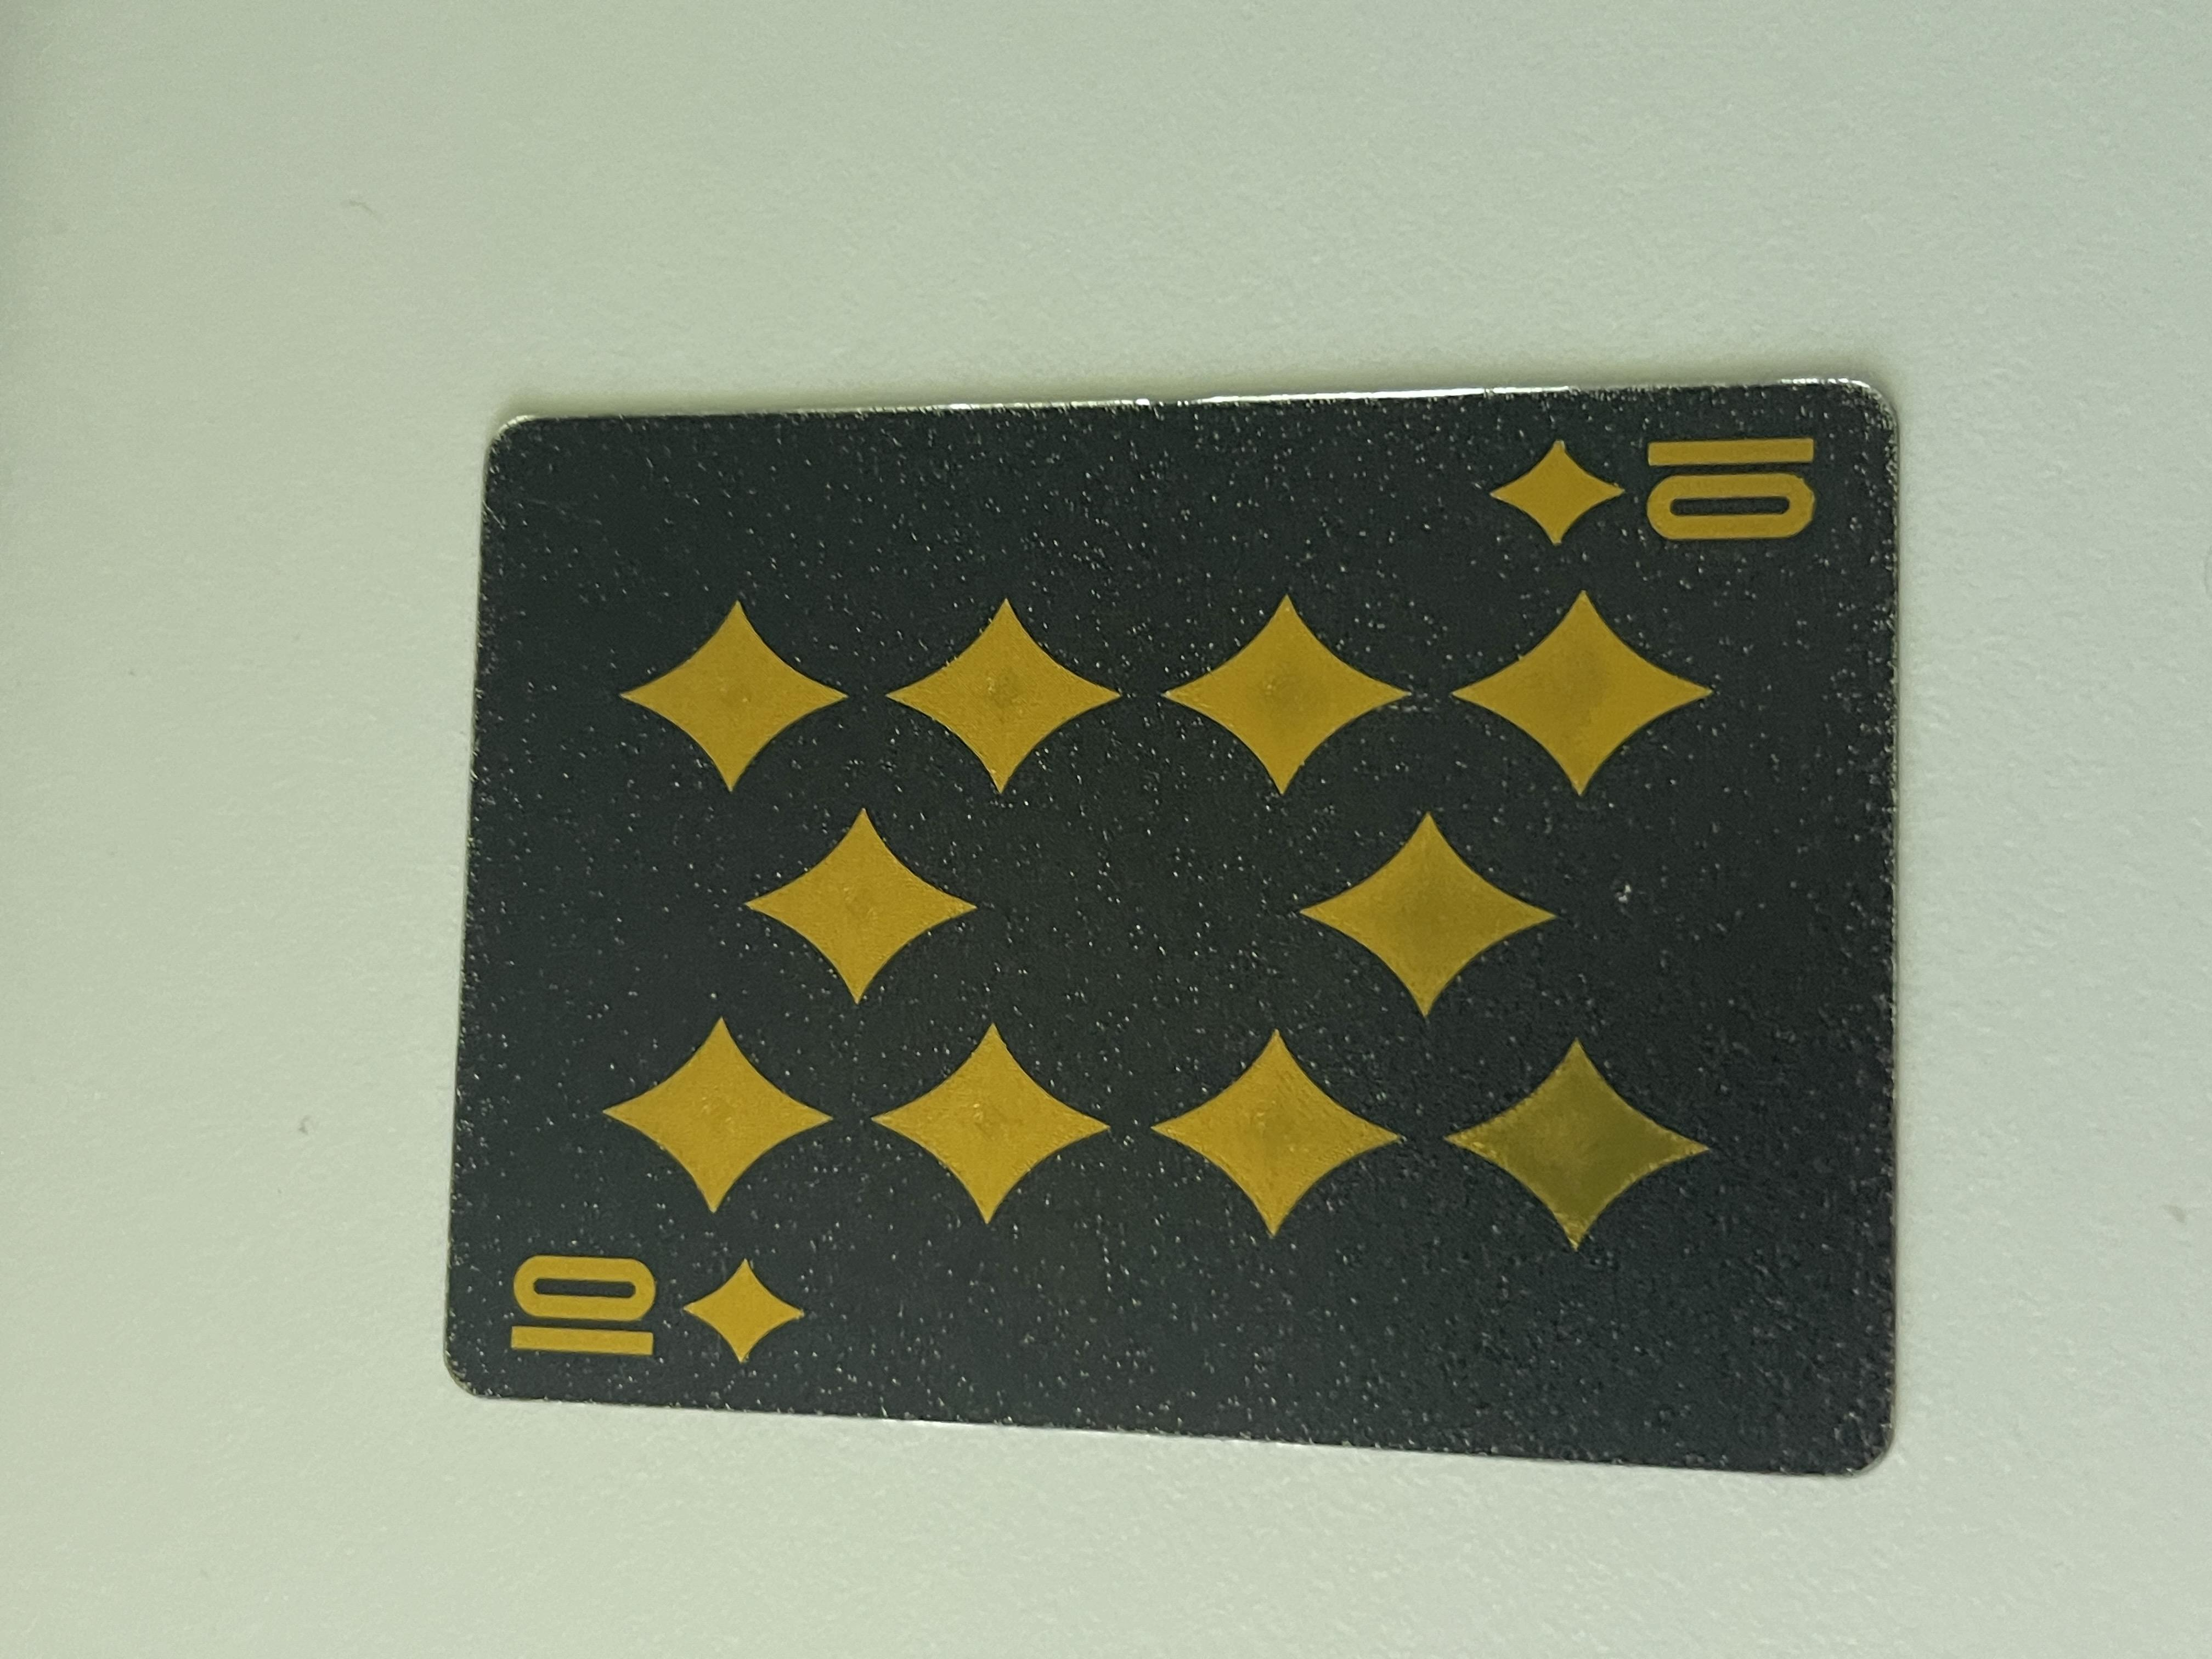10D: (1456, 1107, 1663, 1387), (376, 369, 559, 613)
